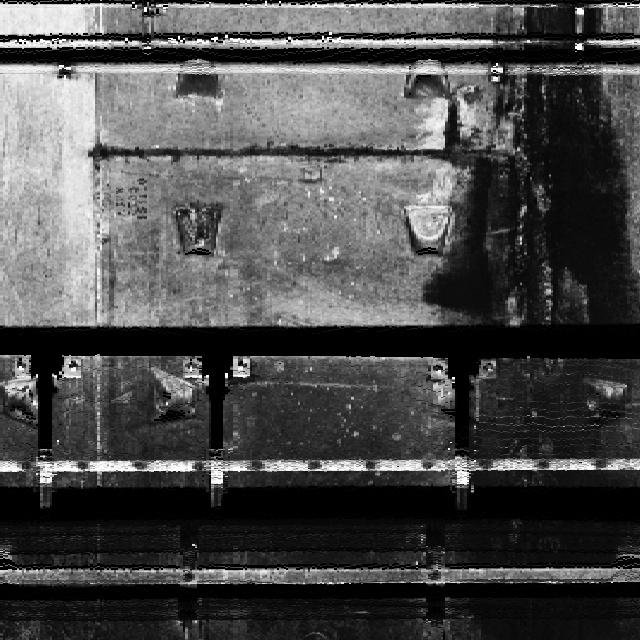leakage: (421, 1, 639, 321)
